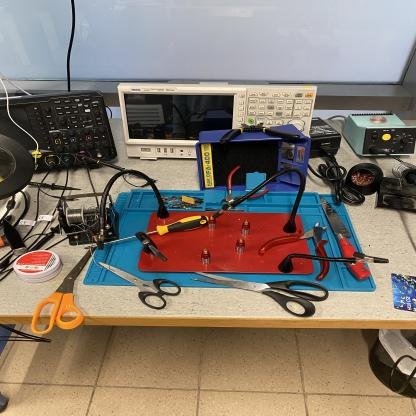Knife: (317, 194, 373, 280)
scissors: (191, 271, 329, 319), (30, 244, 98, 335), (99, 259, 181, 310)
